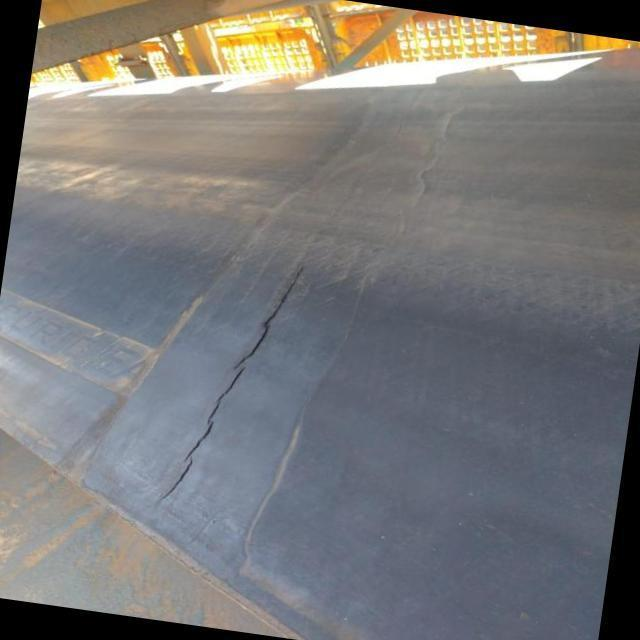Tear: (154, 258, 310, 506)
